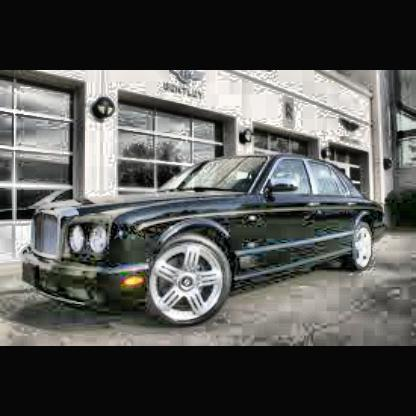Bentley Arnage Sedan 2009: (25, 155, 391, 331)
